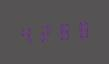eight: (54, 20, 71, 42), (72, 18, 89, 40)
four: (18, 23, 35, 45)
two: (36, 21, 53, 44)
